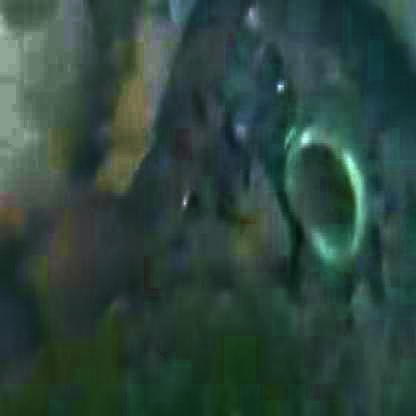tire: (284, 114, 382, 358)
